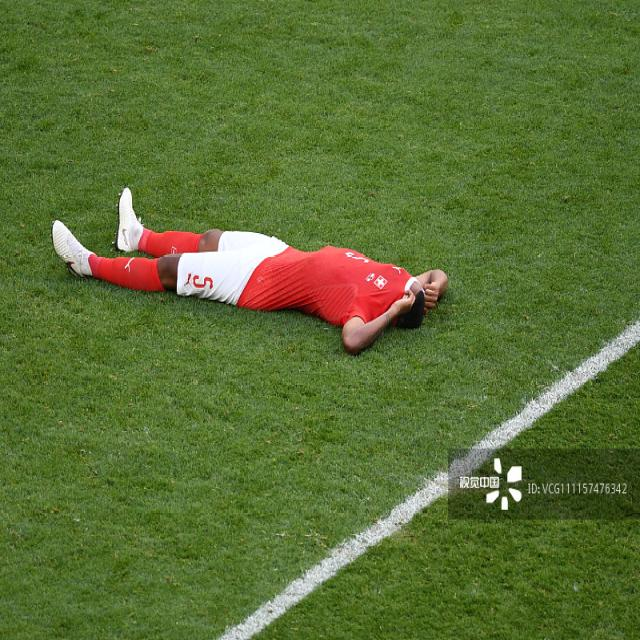fall: (56, 188, 444, 346)
